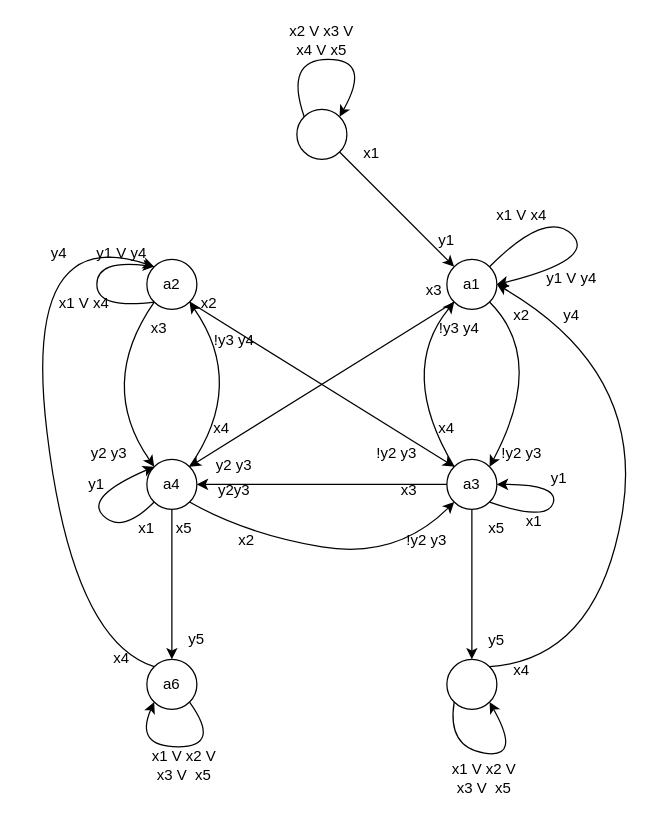
This 648x818 diagram has some shape labels left out. The shapes that lost their labels are listed below. From the top down, each one's centre as x and y in pixels, then its label:
pixel 321 133: a0
pixel 471 683: a5
